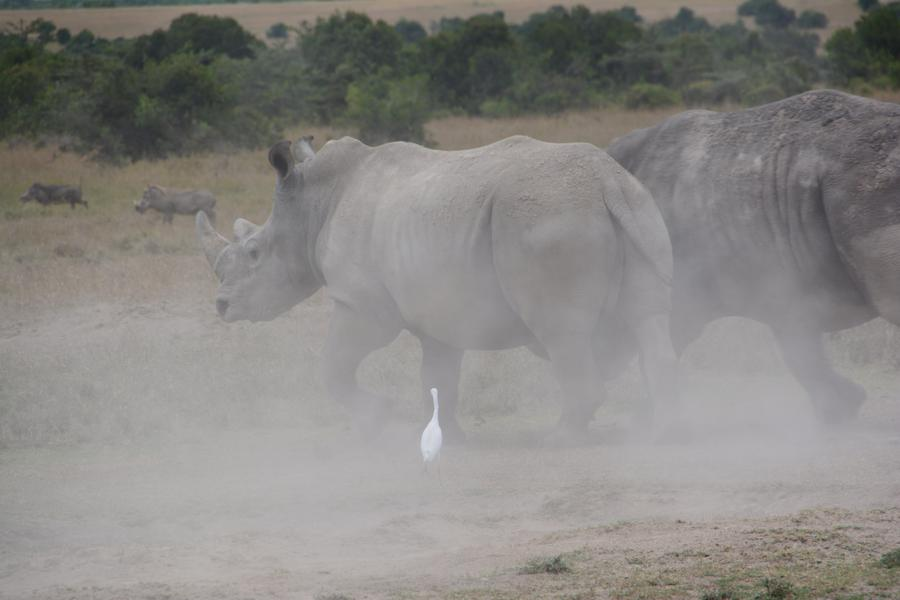rhino: (215, 140, 653, 431), (668, 82, 891, 386)
